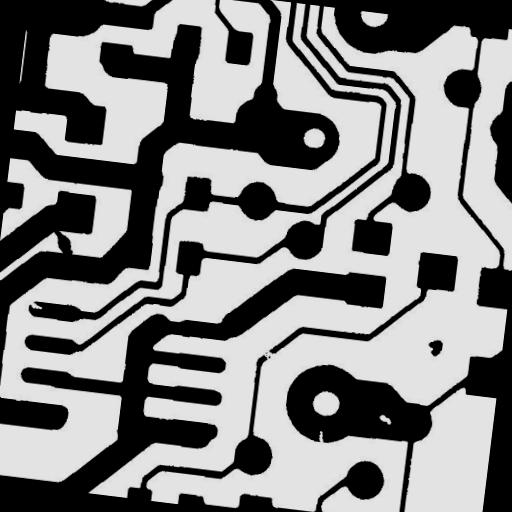copper: (418, 330, 452, 364)
mousebite: (20, 294, 51, 318), (310, 422, 333, 451)
open: (252, 340, 284, 369)
pin-hole: (370, 406, 400, 433)
short: (42, 218, 84, 265)
